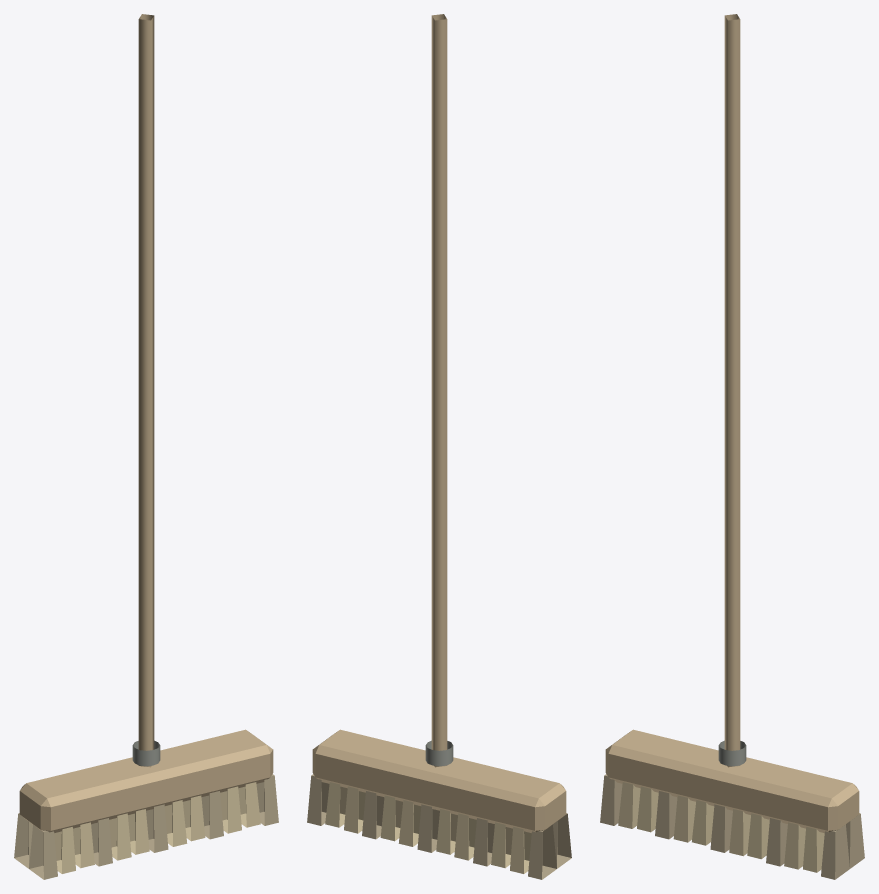
Rendered from resident-broom.glb.
3 views of the same model, side by side, from view 1: azimuth 30°, elevation 25°; view 2: azimuth 150°, elevation 25°; view 3: azimuth 330°, elevation 25° (orthographic).
Visible parts, largest first — view 1: resident-broom authored mesh; view 2: resident-broom authored mesh; view 3: resident-broom authored mesh.
Part boxes in pixels (x1=…): resident-broom authored mesh: x1=14, y1=14, x2=278, y2=879; resident-broom authored mesh: x1=307, y1=14, x2=571, y2=879; resident-broom authored mesh: x1=600, y1=14, x2=864, y2=879.
Bounding box in the file's own units: 0.364 × 1.22 × 0.08.
